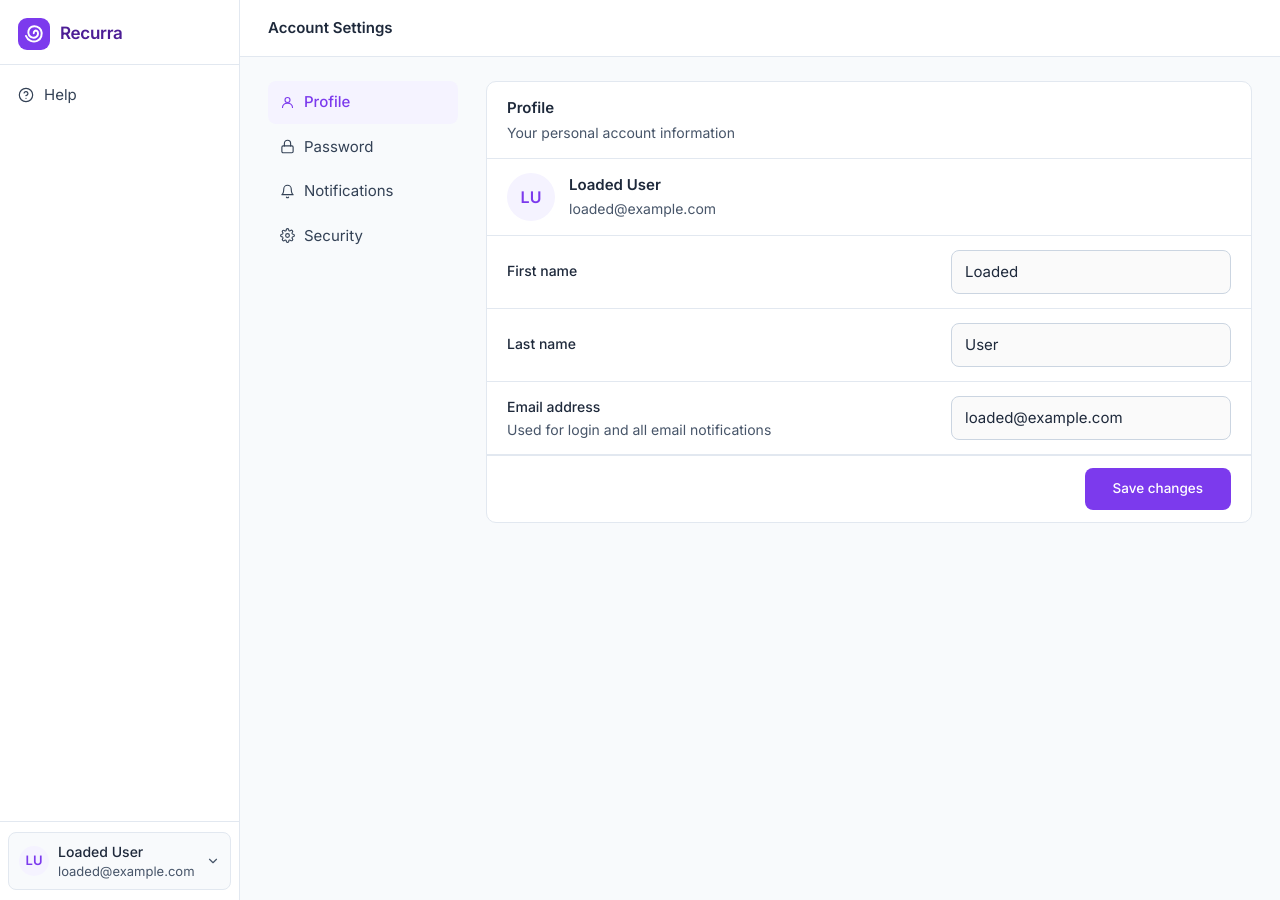
Test: AccountSettingsView › shows delete-account controls and keeps unsupported session-timeout hidden
The image size is (1280, 900).
Click the element with class "settings-nav-item" showing "Security" at (321, 235), box [280,226,363,244]
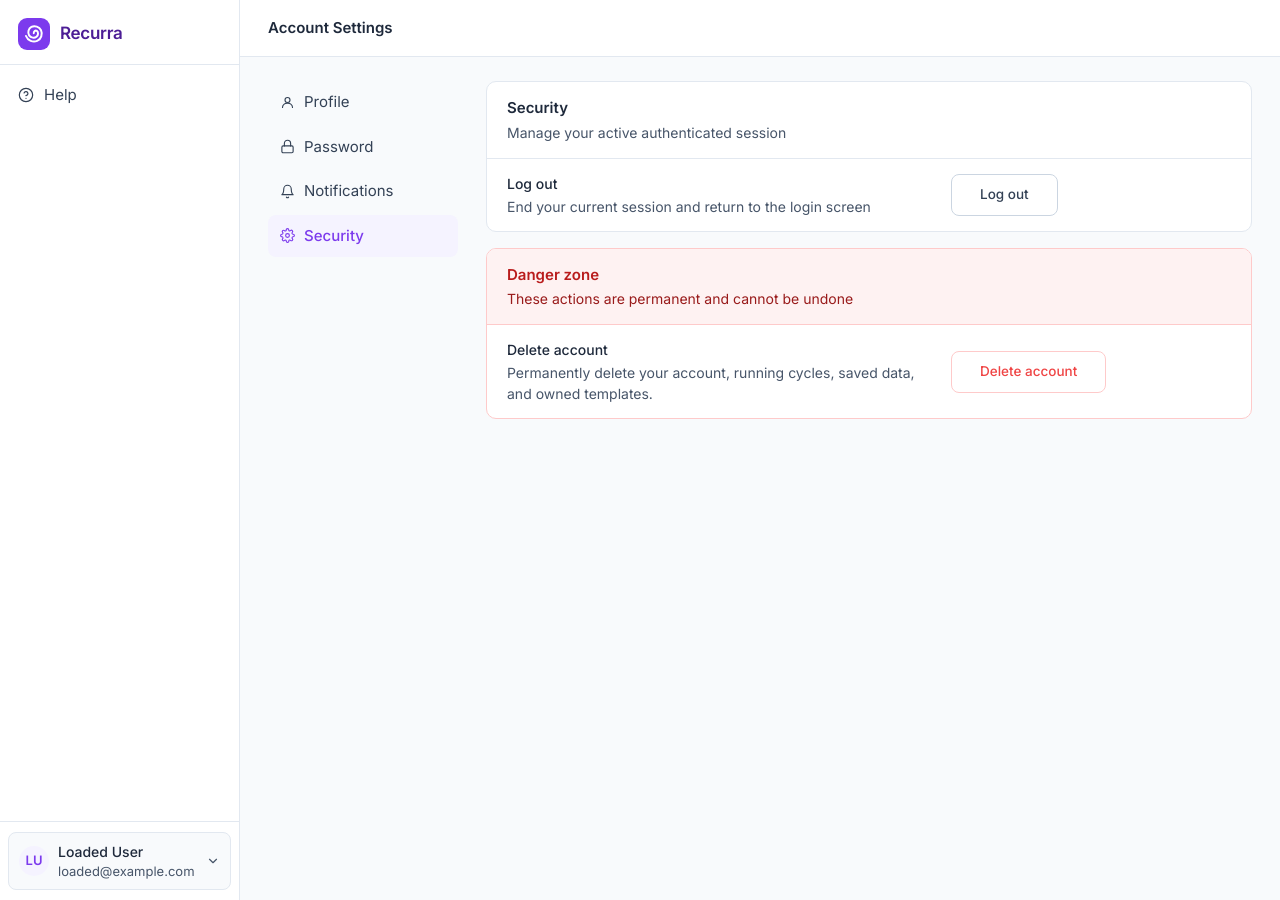
Expected: the text "Delete account" is shown, [507,341,608,358]
